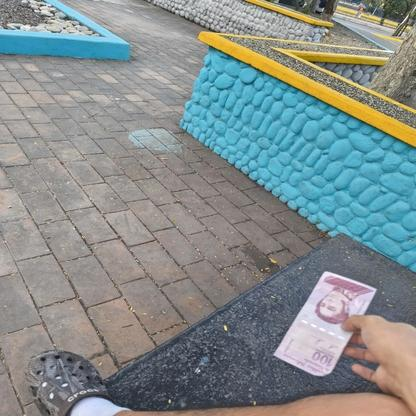one_hundred-front-vef: (272, 271, 376, 376)
